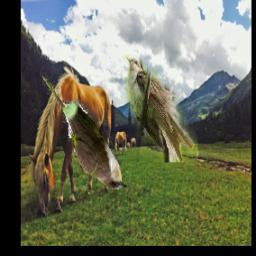Cuckoo: (41, 73, 127, 189), (126, 55, 199, 163)
